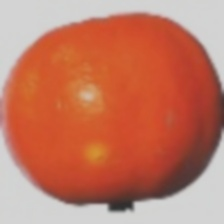tangerine: (32, 16, 172, 178)
